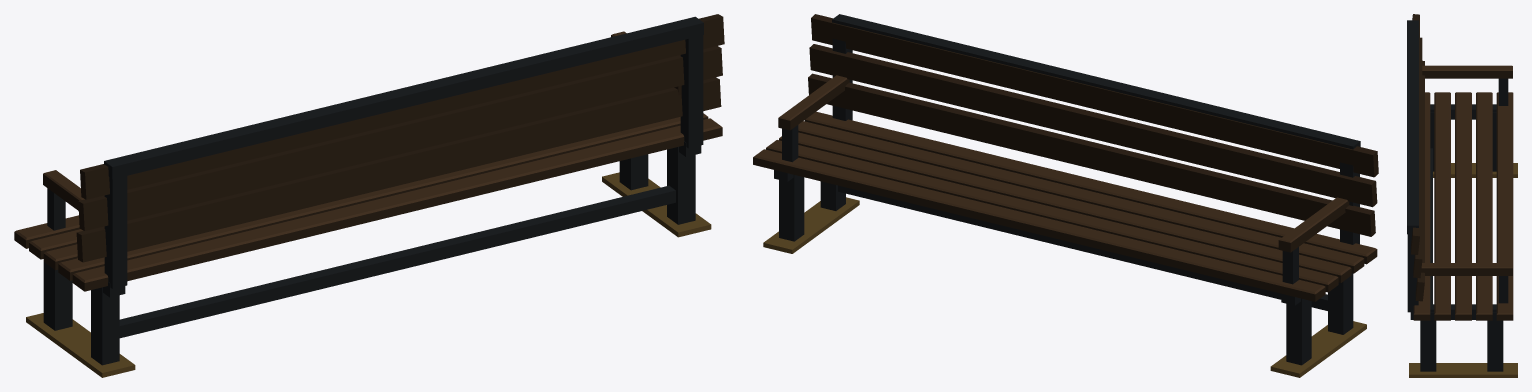
Rendered from lp_rotunda_bench.glb.
The picture shows the model from 3 angles, left to right: view 1: azimuth 30°, elevation 25°; view 2: azimuth 150°, elevation 25°; view 3: azimuth 270°, elevation 25°; orthographic projection. The views are drawn at different scales.
Visible parts, largest first — view 1: lp_rotunda_bench; view 2: lp_rotunda_bench; view 3: lp_rotunda_bench.
Part boxes in pixels (x1=…): lp_rotunda_bench: x1=14, y1=14, x2=724, y2=377; lp_rotunda_bench: x1=753, y1=14, x2=1378, y2=377; lp_rotunda_bench: x1=1407, y1=14, x2=1517, y2=377.
Bounding box in the file's own units: 3.28 × 1.03 × 0.6925.
Materials: 1 (1 with a texture image).
